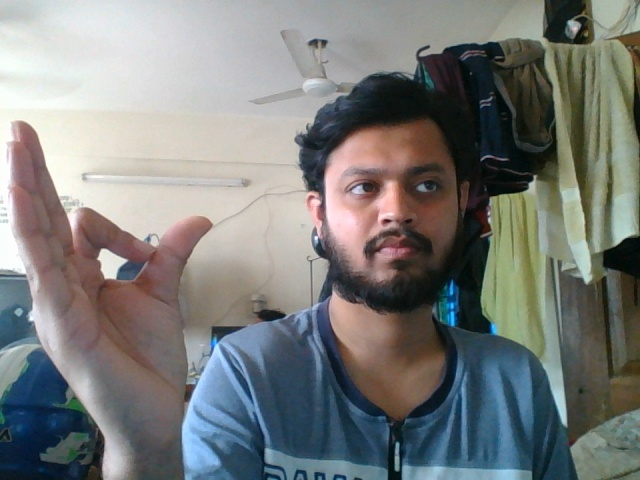uo: (5, 117, 219, 434)
